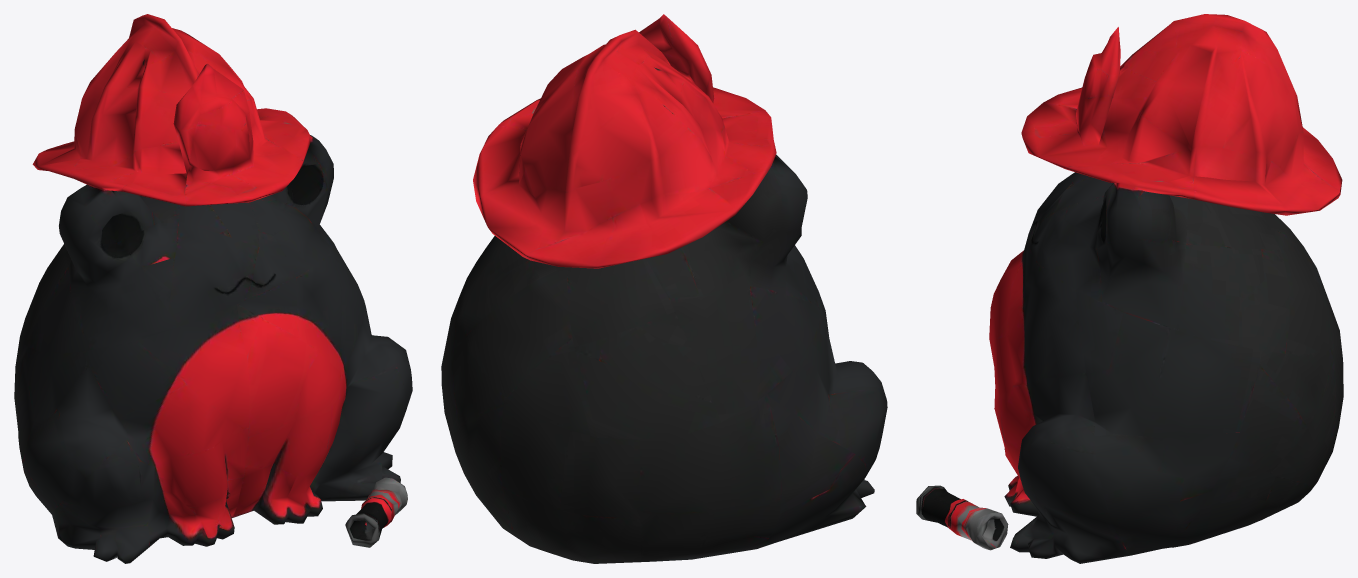
The model's file is pompier.glb.
3 renders of one model, left to right at view 1: azimuth 30°, elevation 25°; view 2: azimuth 150°, elevation 25°; view 3: azimuth 270°, elevation 25°, orthographic. The views are drawn at different scales.
Visible parts, largest first — view 1: mesh_node; view 2: mesh_node; view 3: mesh_node.
Part boxes in pixels (x1,y1,x2,y2): mesh_node: [14, 14, 412, 563]; mesh_node: [441, 14, 887, 563]; mesh_node: [916, 14, 1343, 563].
Bounding box in the file's own units: 1.66 × 1.9 × 1.57.
1 material, 1 textured.
